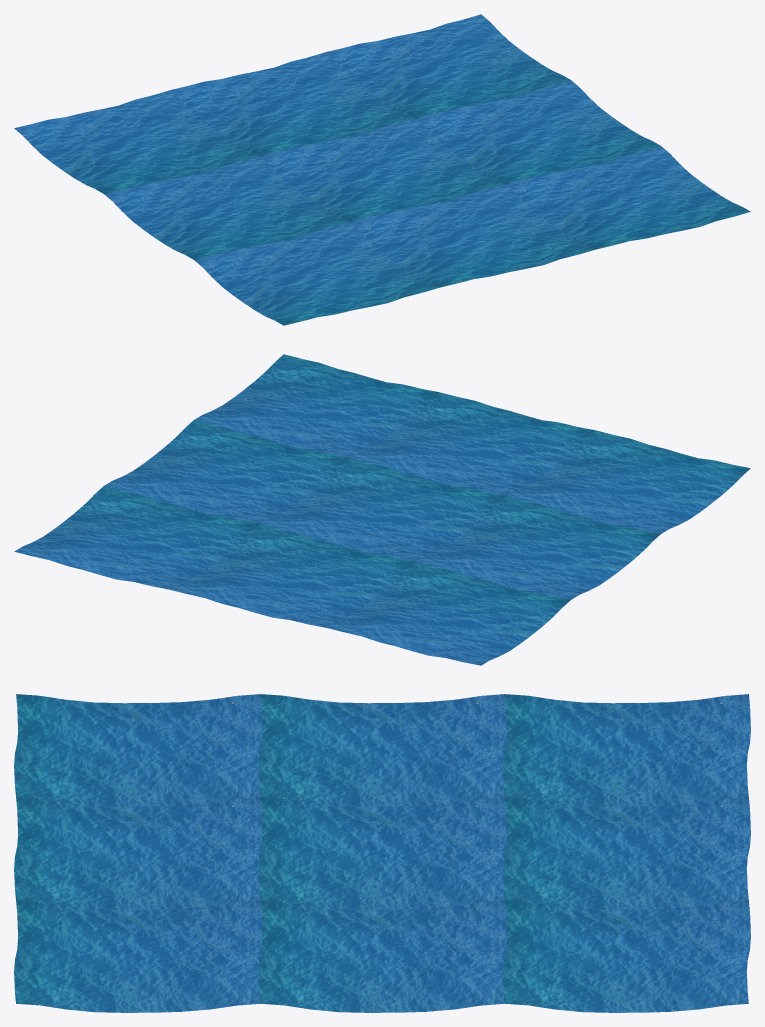
File: ocean_000020.obj
3 renders of one model, top to bottom at view 1: azimuth 30°, elevation 25°; view 2: azimuth 150°, elevation 25°; view 3: azimuth 270°, elevation 25°, orthographic. The views are drawn at different scales.
Parts seen in each view (by area): view 1: Ocean_Plan.001; view 2: Ocean_Plan.001; view 3: Ocean_Plan.001.
Part boxes in pixels (bbox=[...]): Ocean_Plan.001: bbox=[14, 14, 750, 325]; Ocean_Plan.001: bbox=[14, 354, 750, 665]; Ocean_Plan.001: bbox=[14, 694, 750, 1012].
Bounding box in the file's own units: 109100 × 1516 × 109587.
Materials: 1 (1 with a texture image).
